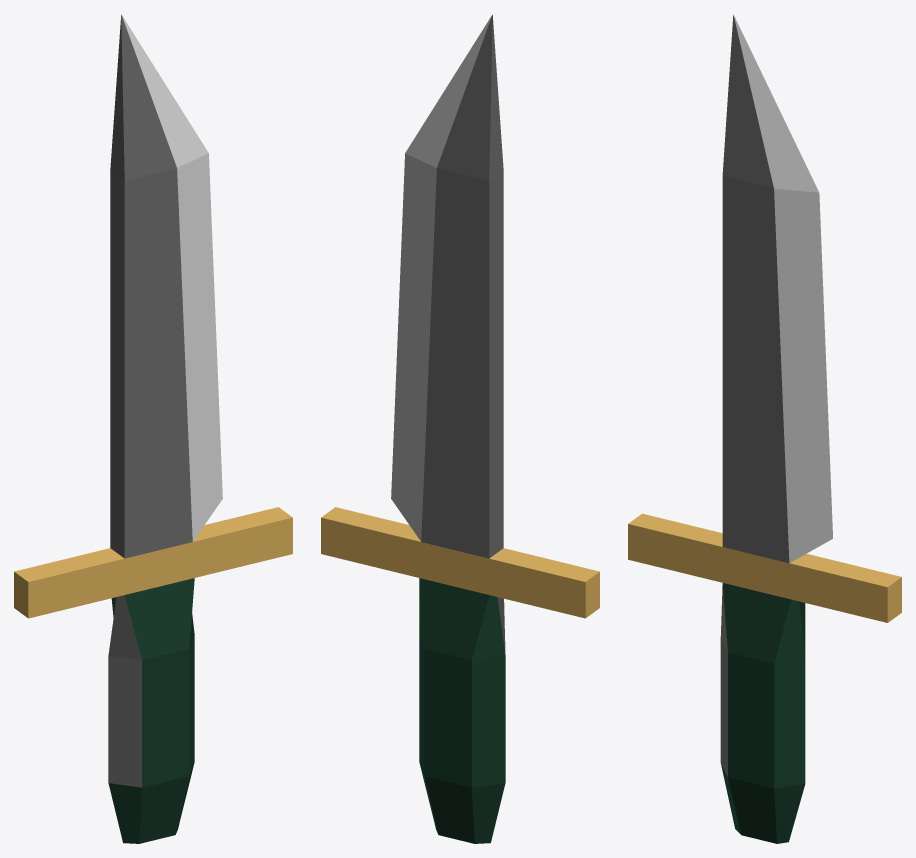
The model's file is knife.fbx.
3 renders of one model, left to right at view 1: azimuth 30°, elevation 25°; view 2: azimuth 150°, elevation 25°; view 3: azimuth 330°, elevation 25°, orthographic.
Parts seen in each view (by area): view 1: Cube; view 2: Cube; view 3: Cube.
Part boxes in pixels (x1=…): Cube: x1=14, y1=14, x2=292, y2=843; Cube: x1=321, y1=14, x2=599, y2=843; Cube: x1=628, y1=14, x2=901, y2=843.
Size of the model in its own units: 28.86 by 86.47 by 4.99.
